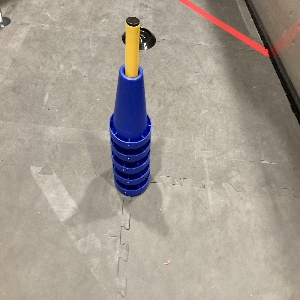Blue_5: (106, 62, 152, 198)
